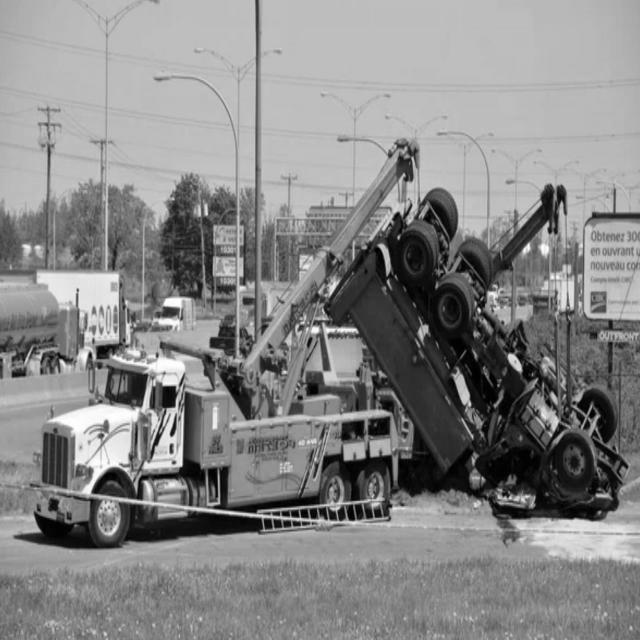accident: (321, 182, 630, 514)
vehicle: (29, 348, 262, 539), (1, 273, 102, 377), (88, 266, 145, 352), (158, 291, 198, 335)
